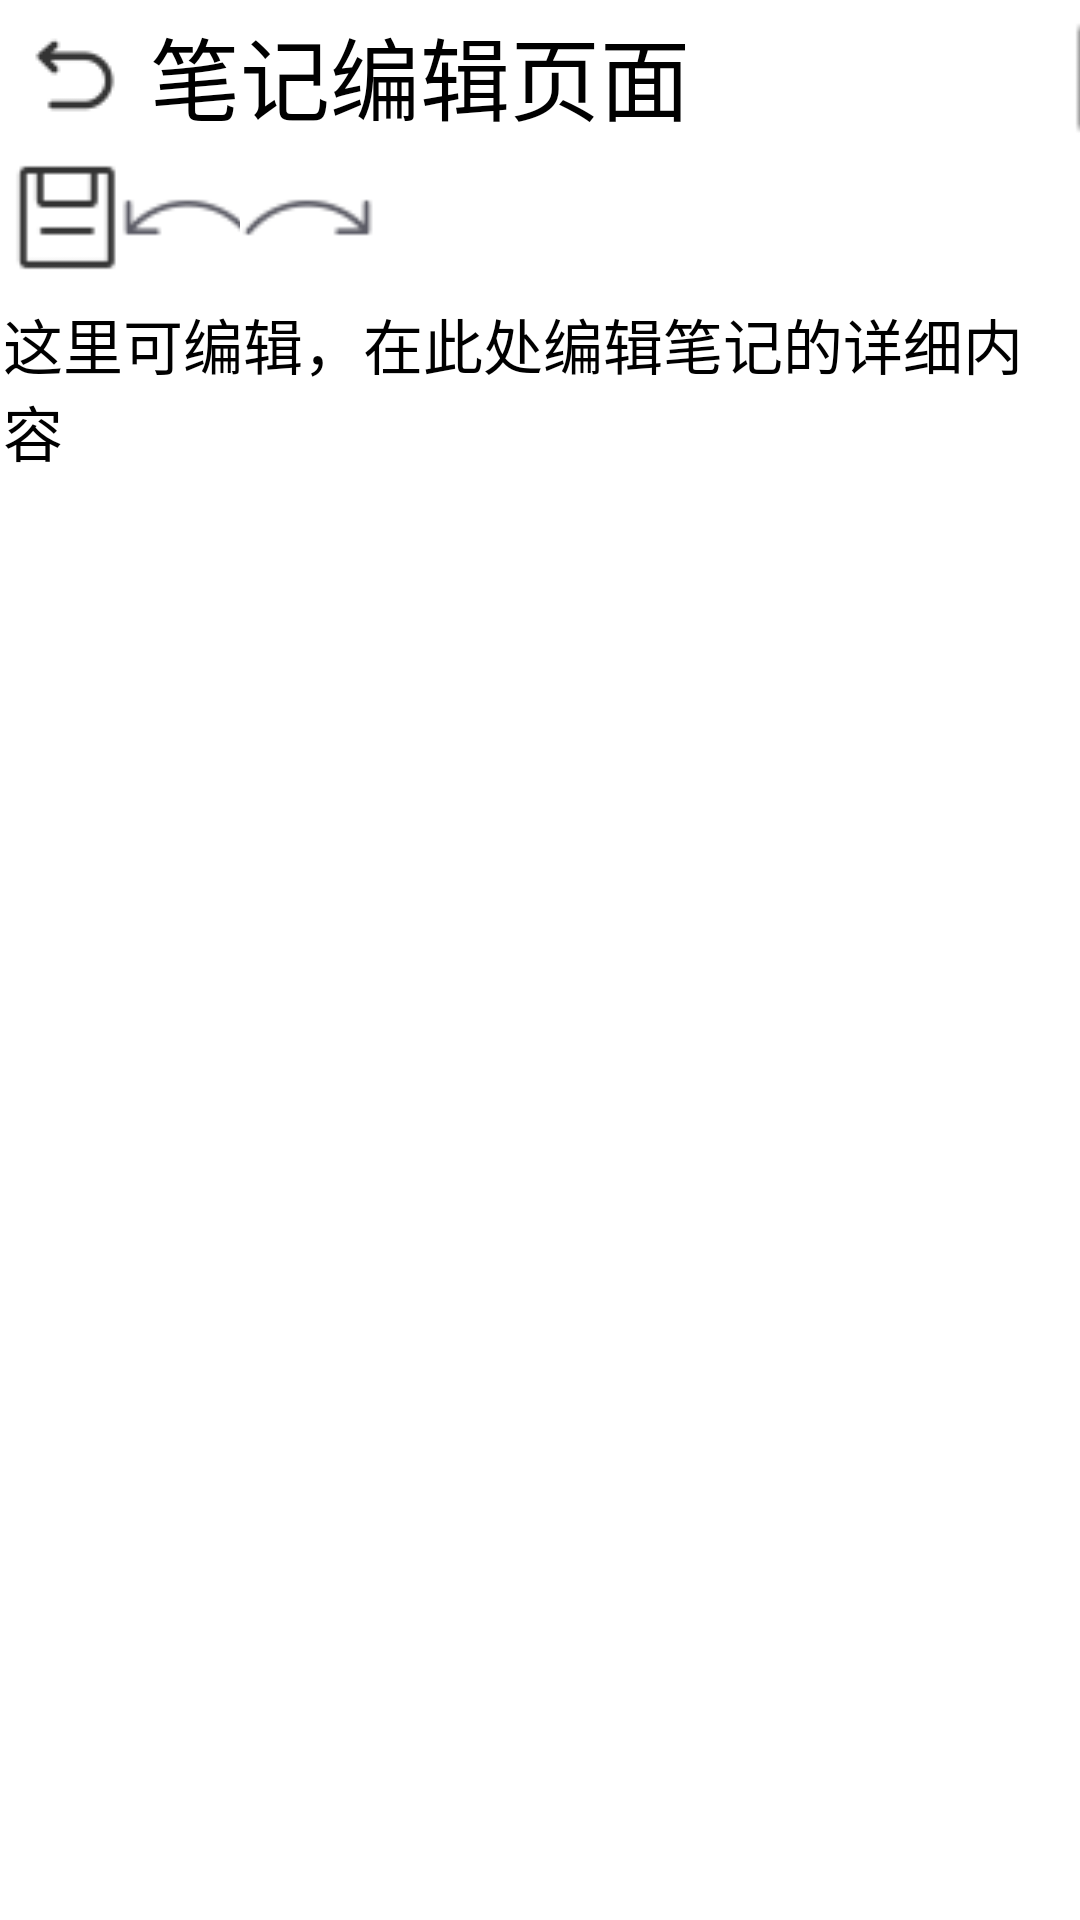

Icon bounding boxes for this 1080×1920 phone screenshot, format (x1, y1, x2, y2):
baocun: (18, 166, 116, 269)
fanhui: (35, 40, 115, 111)
